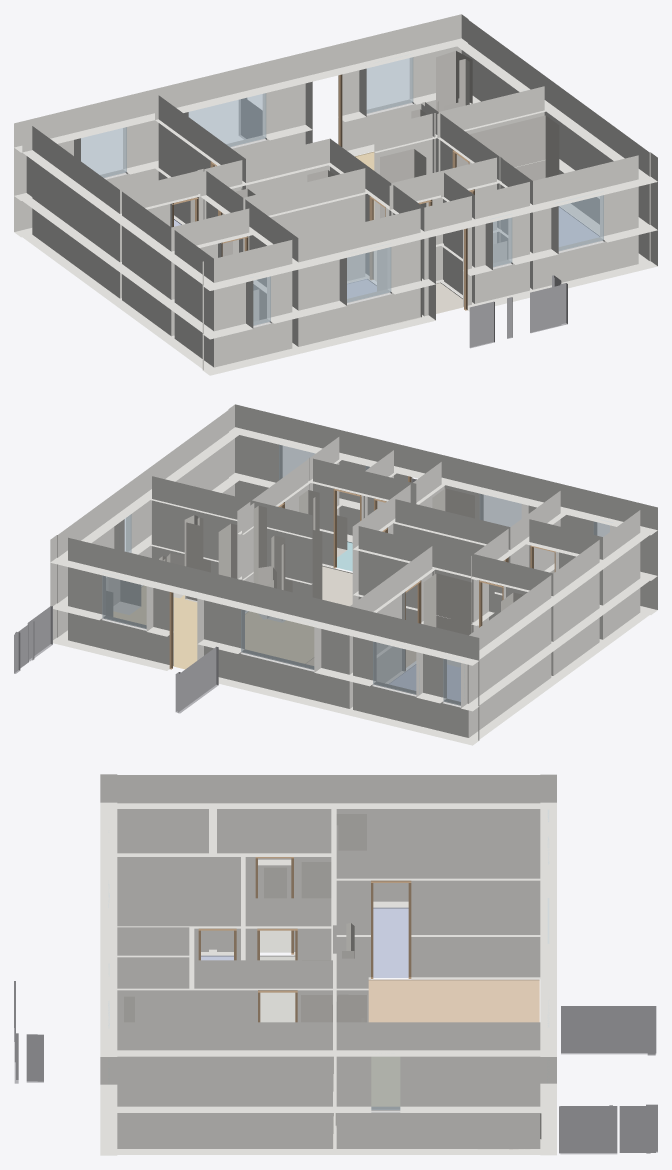
3 views of the same model, one above another, from view 1: azimuth 30°, elevation 25°; view 2: azimuth 150°, elevation 25°; view 3: azimuth 270°, elevation 25° (orthographic). The views are drawn at different scales.
Visible parts, largest first — view 1: walls, railings, furniture_10_closet, window_6, window_3, window_1, window_2, window_4, furniture_0_closet, furniture_13_closet, window_9, floor_4_Bed_Room (+3 smaller); view 2: walls, floor_2_Kitchen, railings, window_6, furniture_3_closet, window_3, window_4, window_2, floor_3_Entry, furniture_4_closet, furniture_39_chimney, furniture_17_closet (+7 smaller); view 3: walls, railings, floor_1_Living_Room, floor_0_Bed_Room, window_8, floor_2_Kitchen, floor_6_Undefined, furniture_11_closet, furniture_2_closet, furniture_10_closet, furniture_4_closet, door_12 (+2 smaller).
Part boxes in pixels (box(x1,y1,x2,y2)): walls: box(14, 14, 657, 375); railings: box(239, 98, 567, 348); furniture_10_closet: box(456, 115, 559, 180); window_6: box(188, 93, 266, 146); window_3: box(366, 54, 413, 113); window_1: box(555, 191, 603, 250); window_2: box(347, 243, 391, 302); window_4: box(81, 127, 126, 177); furniture_0_closet: box(436, 51, 472, 111); furniture_13_closet: box(380, 149, 426, 218); window_9: box(492, 214, 512, 266); floor_4_Bed_Room: box(559, 206, 599, 246); walls: box(50, 404, 657, 745); floor_2_Kitchen: box(113, 585, 313, 669); railings: box(14, 478, 416, 713); window_6: box(241, 609, 314, 669); furniture_3_closet: box(423, 573, 472, 666); window_3: box(102, 572, 146, 628); window_4: box(373, 641, 419, 694); window_2: box(479, 494, 521, 526); floor_3_Entry: box(322, 565, 352, 606); furniture_4_closet: box(218, 523, 237, 578); furniture_39_chimney: box(253, 505, 266, 583); furniture_17_closet: box(432, 488, 474, 518); walls: box(100, 774, 556, 1155); railings: box(14, 981, 657, 1154); floor_1_Living_Room: box(368, 979, 539, 1022); floor_0_Bed_Room: box(373, 907, 408, 977); window_8: box(371, 1056, 400, 1109); floor_2_Kitchen: box(371, 1057, 399, 1106); floor_6_Undefined: box(260, 955, 295, 1022); furniture_11_closet: box(301, 862, 331, 898); furniture_2_closet: box(336, 814, 366, 850); furniture_10_closet: box(301, 995, 333, 1148); furniture_4_closet: box(336, 994, 366, 1022); door_12: box(371, 880, 411, 978).
Bounding box in the file's own units: 11.64 × 2.72 × 12.44.
